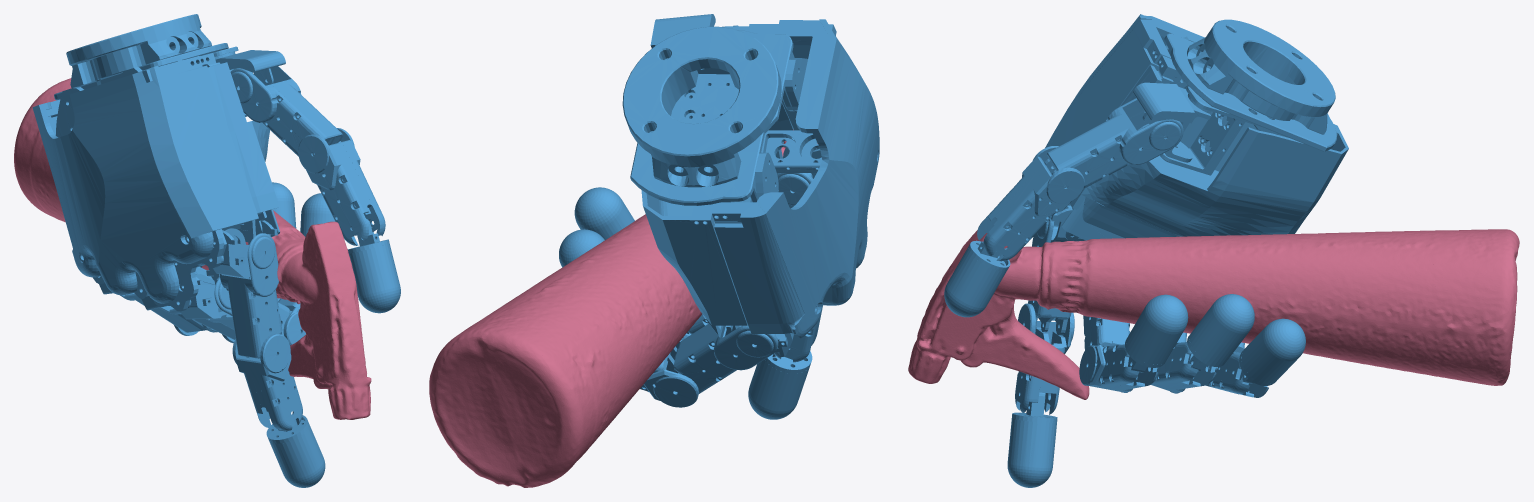
The picture shows the model from 3 angles, left to right: view 1: azimuth 30°, elevation 25°; view 2: azimuth 150°, elevation 25°; view 3: azimuth 270°, elevation 25°; orthographic projection. The views are drawn at different scales.
Parts seen in each view (by area): view 1: 0; view 2: 0; view 3: 0.
Part boxes in pixels (<box>): 0: <box>14,14,400,487</box>; 0: <box>429,14,879,487</box>; 0: <box>908,14,1519,487</box>.
Size of the model in its own units: 0.1284 by 0.2076 by 0.2685.
